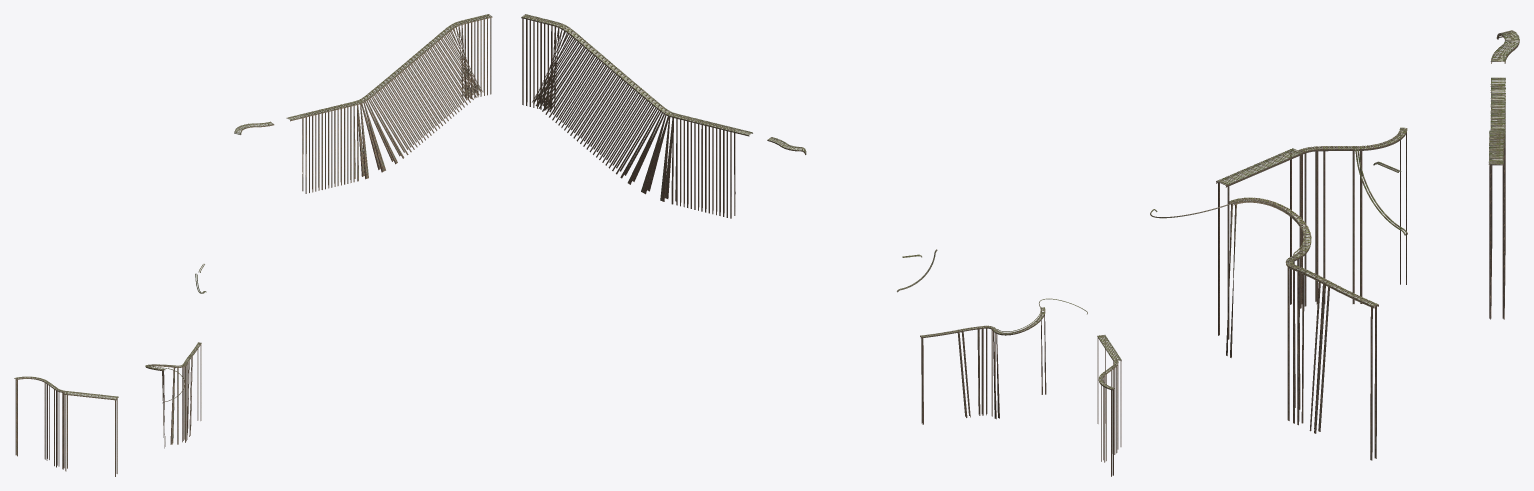
Rendered from boss 4.fbx.
3 renders of one model, left to right at view 1: azimuth 30°, elevation 25°; view 2: azimuth 150°, elevation 25°; view 3: azimuth 270°, elevation 25°, orthographic. The views are drawn at different scales.
Parts seen in each view (by area): view 1: ramp.001, ramp.017, ramp.011, ramp.018, ramp.015; view 2: ramp.001, ramp.015, ramp.017, ramp.011; view 3: ramp.001, ramp.017, ramp.011, ramp.015, ramp.012, ramp.020, ramp.018, ramp.019, ramp.014, ramp.013, ramp.009.
Part boxes in pixels (bbox=[...]): ramp.001: bbox=[302, 14, 492, 193]; ramp.017: bbox=[64, 391, 118, 476]; ramp.011: bbox=[187, 342, 201, 435]; ramp.018: bbox=[14, 376, 48, 459]; ramp.015: bbox=[145, 364, 176, 448]; ramp.001: bbox=[521, 14, 735, 218]; ramp.015: bbox=[992, 307, 1046, 419]; ramp.017: bbox=[1097, 335, 1121, 446]; ramp.011: bbox=[920, 329, 967, 424]; ramp.001: bbox=[1488, 93, 1505, 319]; ramp.017: bbox=[1216, 148, 1303, 339]; ramp.011: bbox=[1314, 280, 1378, 460]; ramp.015: bbox=[1226, 197, 1311, 409]; ramp.012: bbox=[1296, 267, 1326, 431]; ramp.020: bbox=[1298, 146, 1320, 306]; ramp.018: bbox=[1357, 127, 1407, 303]; ramp.019: bbox=[1320, 146, 1357, 303]; ramp.014: bbox=[1285, 257, 1295, 420]; ramp.013: bbox=[1291, 265, 1300, 423]; ramp.009: bbox=[1353, 146, 1407, 235].
Size of the model in its own units: 15673 by 9148 by 5034.
